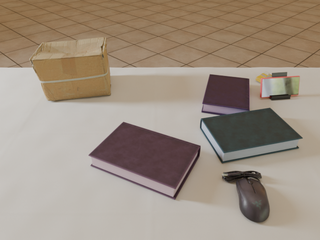book: (89, 122, 200, 200), (200, 108, 303, 163), (202, 74, 249, 115)
box: (30, 37, 111, 101)
mouse: (222, 171, 270, 222)
phone: (260, 76, 300, 98)
toy_car: (256, 71, 271, 82)
